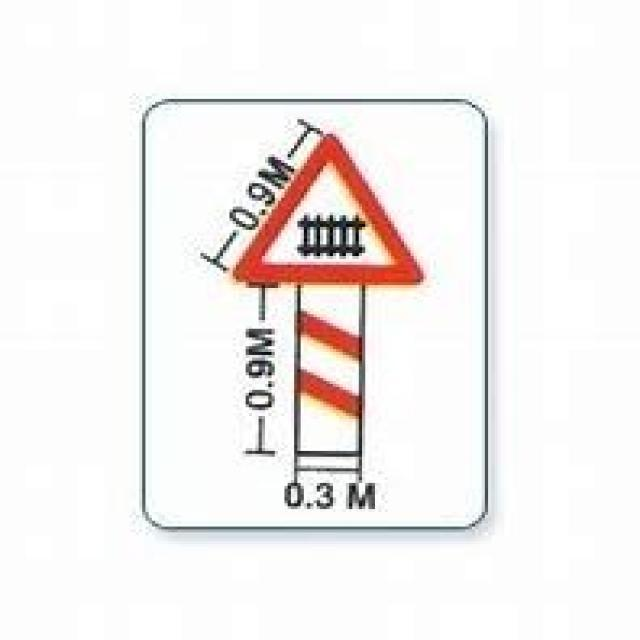guarded level crossing: (229, 127, 431, 296)
